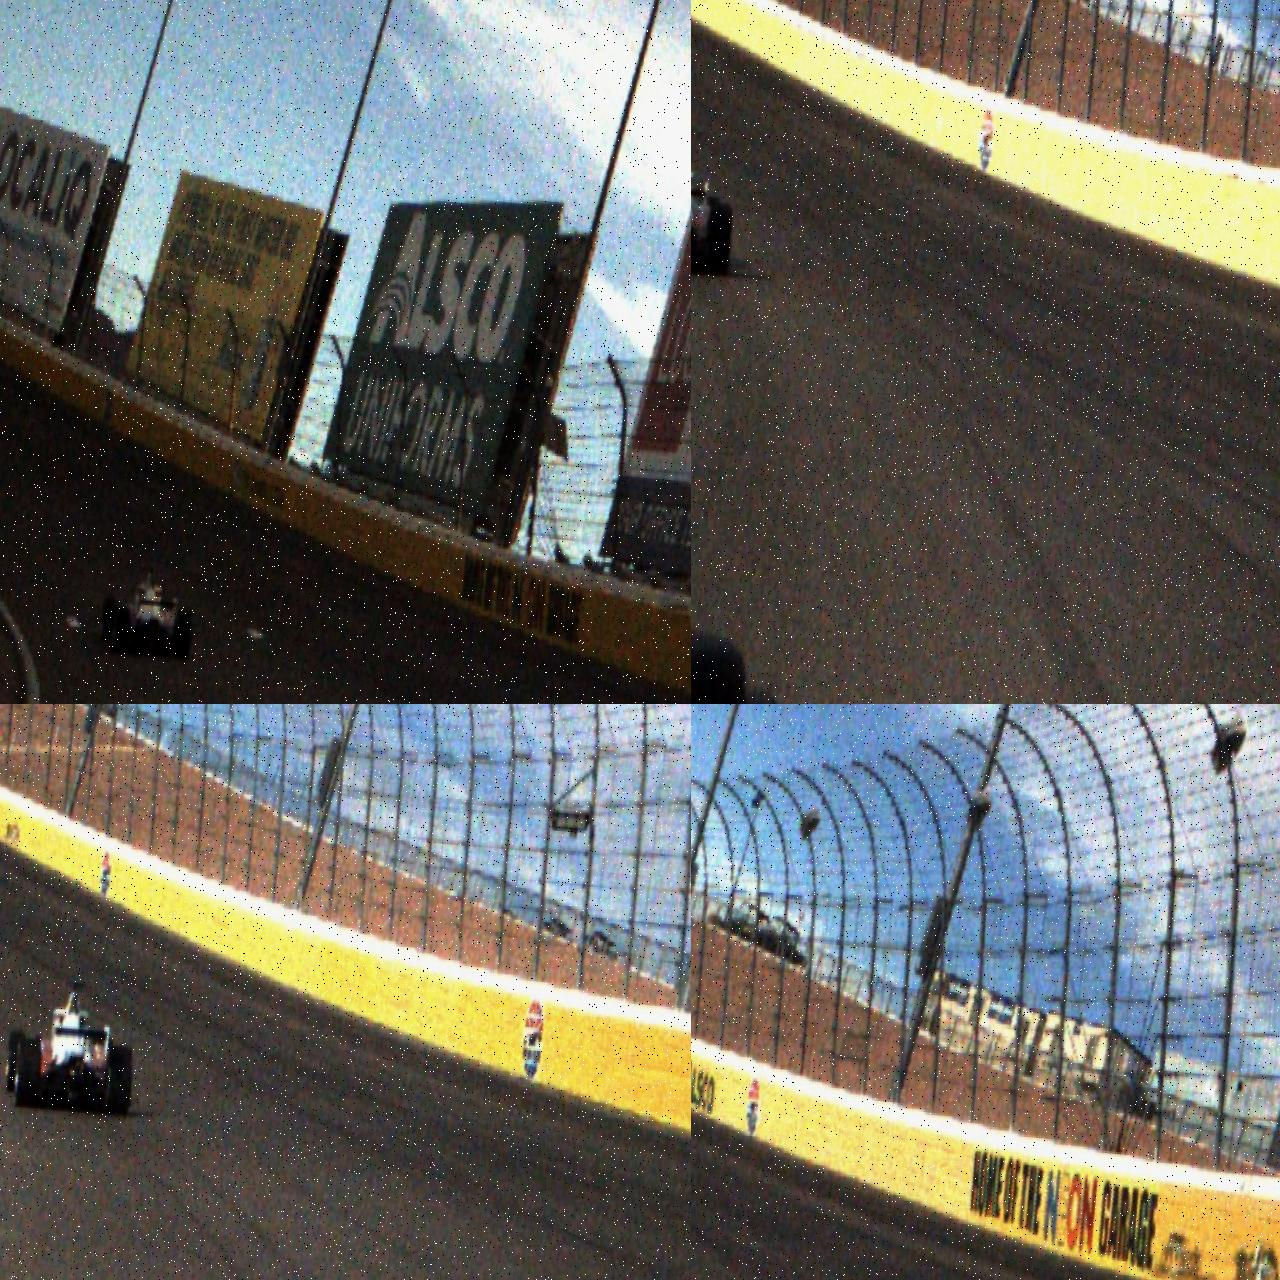AV: (2, 972, 141, 1119), (98, 562, 198, 662), (691, 132, 739, 277)
Wheel: (13, 1038, 42, 1110), (107, 1046, 135, 1118), (707, 203, 734, 277), (3, 1030, 26, 1096), (172, 608, 194, 660), (110, 606, 130, 656), (99, 595, 118, 644)
